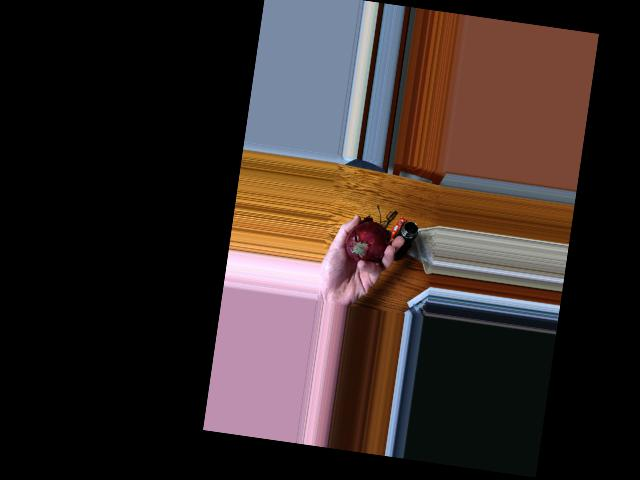onion: (342, 222, 391, 267)
